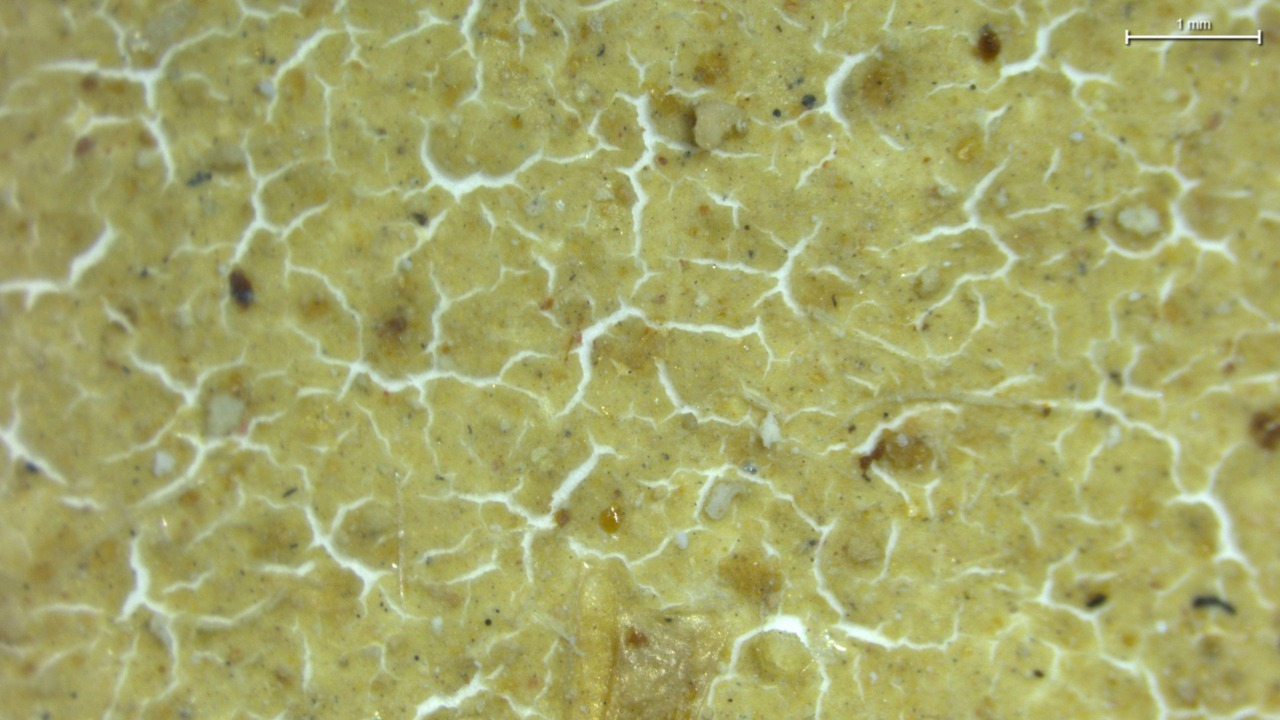microplastic_fragment: (693, 103, 747, 151), (705, 479, 746, 519), (759, 410, 782, 449)
